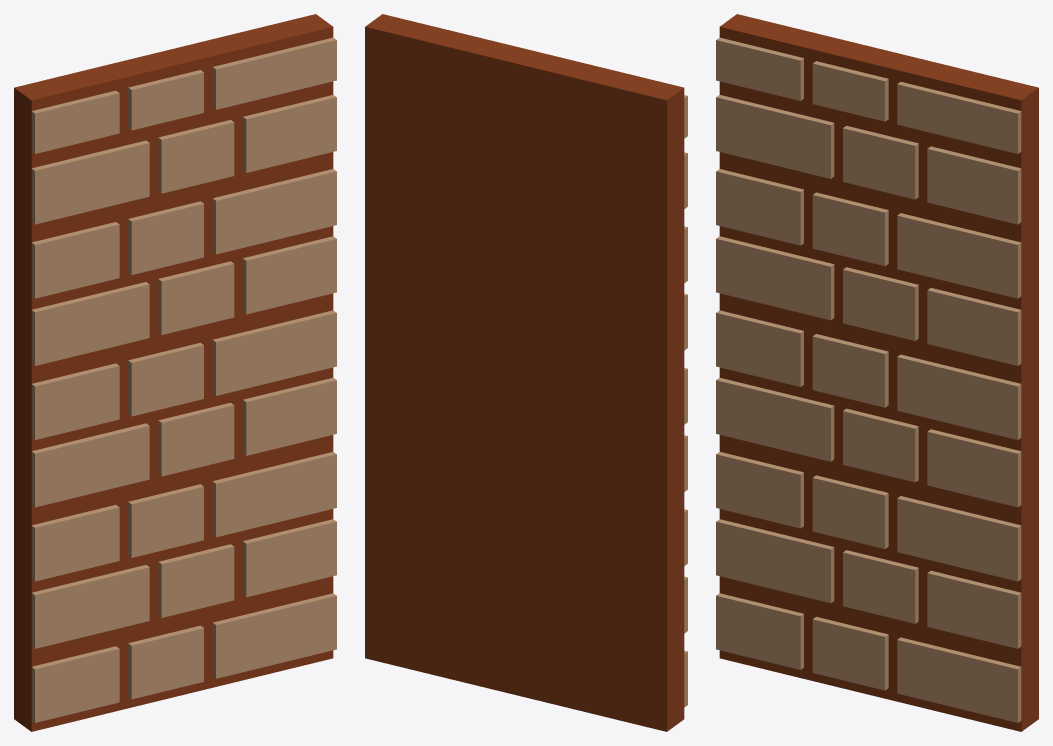
Rendered from BrickV1Small.fbx.
3 views of the same model, side by side, from view 1: azimuth 30°, elevation 25°; view 2: azimuth 150°, elevation 25°; view 3: azimuth 330°, elevation 25° (orthographic).
Visible parts, largest first — view 1: BrickV1Small; view 2: BrickV1Small; view 3: BrickV1Small.
Boxes of the visible parts, bbox=[...] form: BrickV1Small: bbox=[14, 14, 336, 731]; BrickV1Small: bbox=[365, 14, 687, 731]; BrickV1Small: bbox=[716, 14, 1038, 731].
Bounding box in the file's own units: 100 × 200 × 12.
